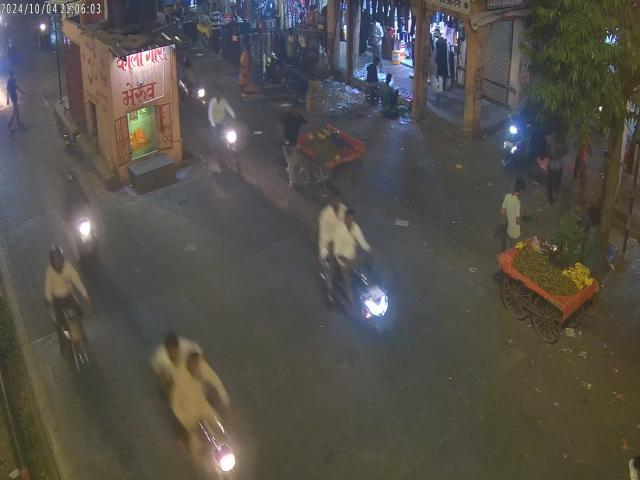motorbike-rider: (146, 328, 252, 472), (42, 240, 97, 376), (205, 86, 248, 189)
scooty-rider: (308, 180, 394, 351), (55, 180, 122, 266)
vendor: (500, 220, 592, 354), (286, 118, 386, 194)
